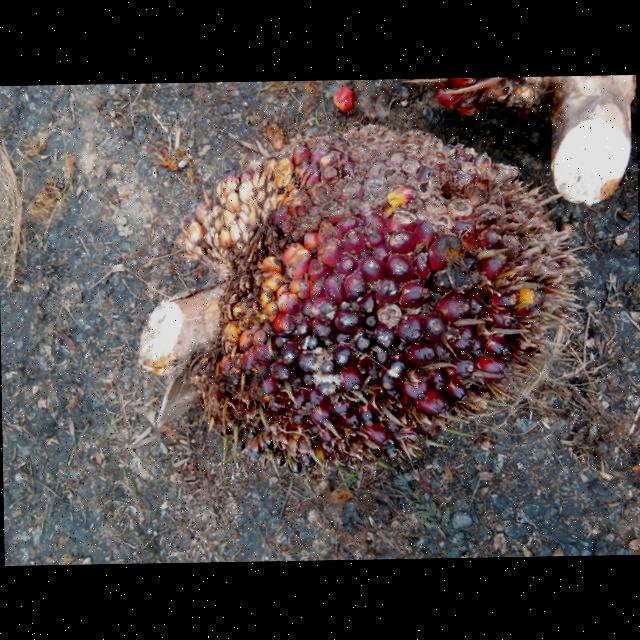Ripe: (181, 126, 571, 467)
